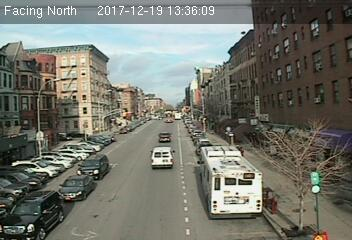bus: (199, 146, 261, 220)
car: (1, 187, 66, 240), (59, 171, 96, 202), (76, 152, 110, 179), (158, 131, 171, 142)
truck: (150, 146, 173, 169)
